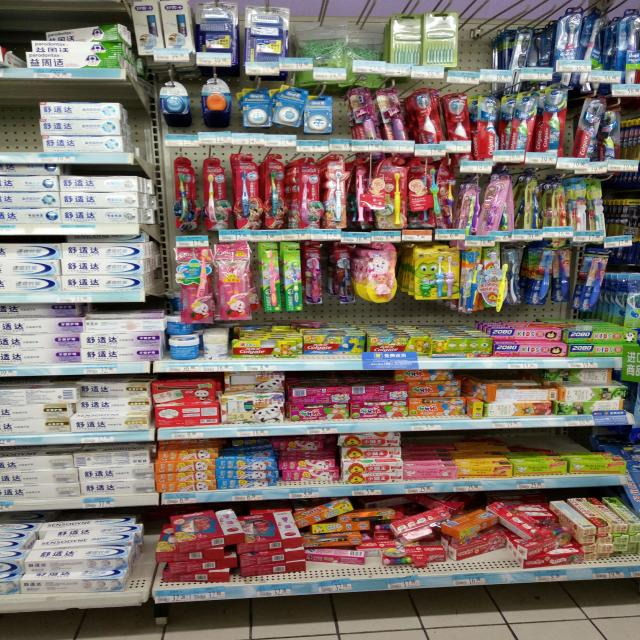unorganised: (291, 494, 586, 568), (149, 508, 238, 584), (483, 506, 555, 543), (512, 527, 579, 563), (442, 525, 510, 560), (384, 506, 447, 543), (46, 23, 129, 47), (435, 508, 497, 538), (377, 544, 451, 569), (295, 499, 355, 527), (402, 371, 469, 396), (83, 316, 165, 332), (301, 547, 368, 566), (537, 369, 615, 384), (223, 372, 288, 389), (70, 397, 150, 410), (280, 443, 325, 452)
